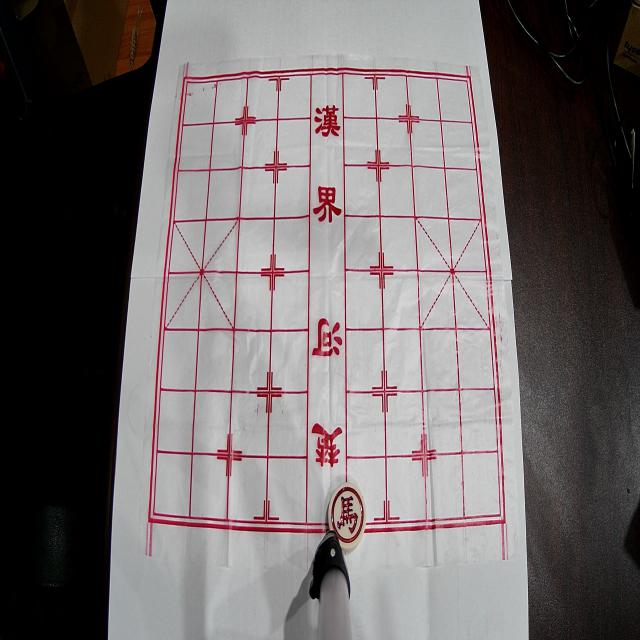red-horse: (328, 482, 366, 550)
